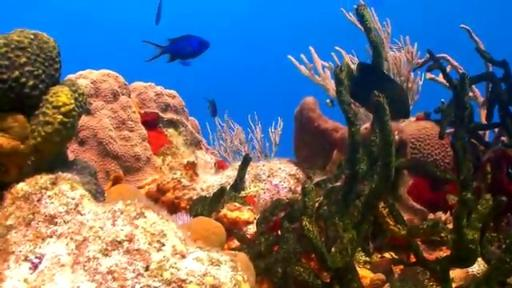Fish: (350, 62, 410, 120), (143, 35, 210, 66), (204, 98, 217, 117), (340, 0, 360, 11), (156, 0, 162, 25), (326, 99, 335, 107)
